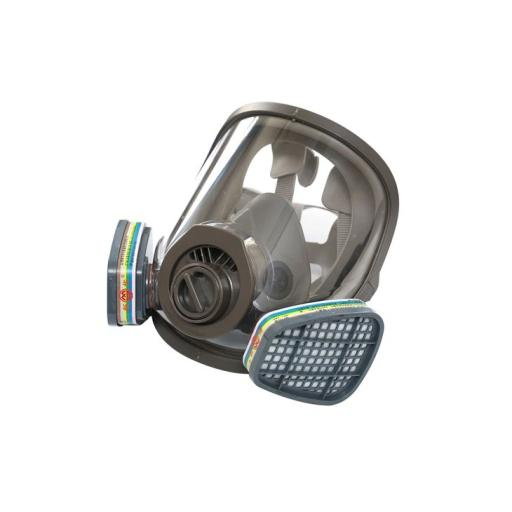mask: (79, 91, 410, 420)
